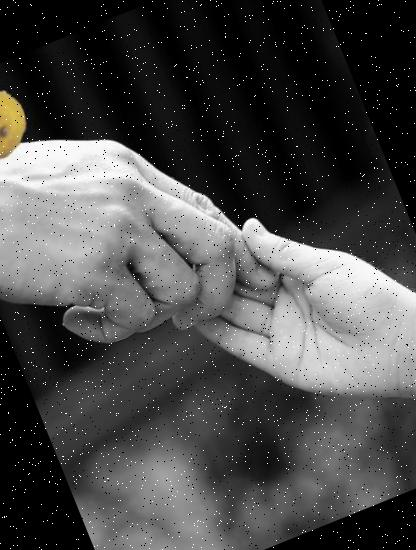Lemon: (0, 76, 38, 171)
